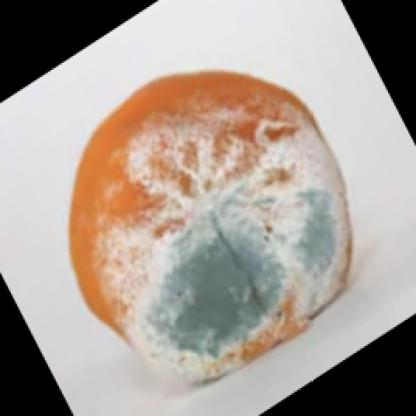rotten: (71, 71, 352, 385)
